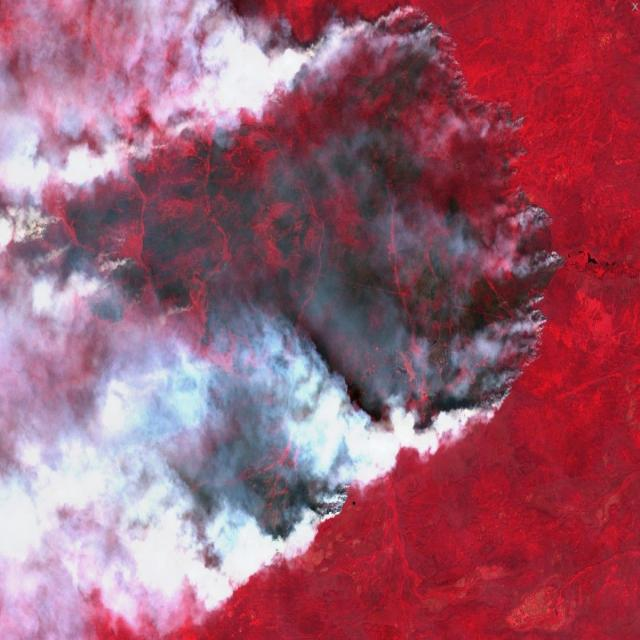fire: (23, 0, 564, 578)
